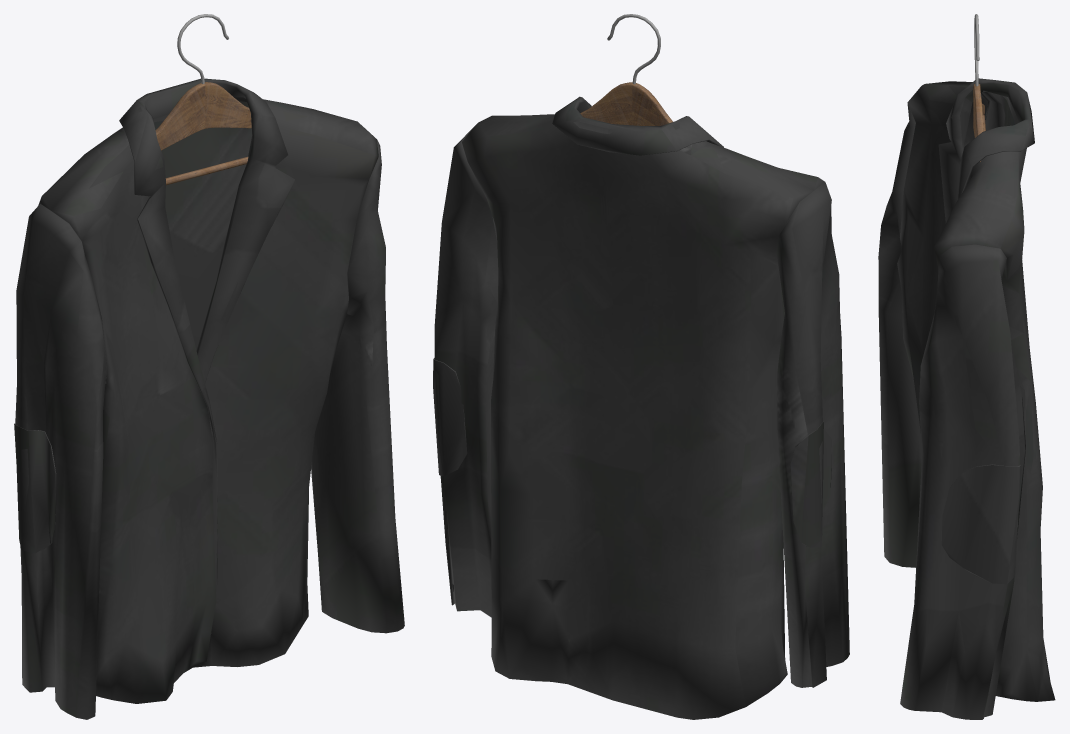
Rendered from jacket_017.glb.
3 views of the same model, side by side, from view 1: azimuth 30°, elevation 25°; view 2: azimuth 150°, elevation 25°; view 3: azimuth 270°, elevation 25° (orthographic). The views are drawn at different scales.
Parts seen in each view (by area): view 1: jacket_017_StaticMeshComponent0, BP_Hangers_for_clothes323_StaticMeshComponent0; view 2: jacket_017_StaticMeshComponent0, BP_Hangers_for_clothes323_StaticMeshComponent0; view 3: jacket_017_StaticMeshComponent0, BP_Hangers_for_clothes323_StaticMeshComponent0.
Part boxes in pixels (left/top/right/bottom): jacket_017_StaticMeshComponent0: left=14, top=78, right=404, bottom=719; BP_Hangers_for_clothes323_StaticMeshComponent0: left=155, top=14, right=251, bottom=185; jacket_017_StaticMeshComponent0: left=433, top=96, right=849, bottom=719; BP_Hangers_for_clothes323_StaticMeshComponent0: left=580, top=14, right=672, bottom=125; jacket_017_StaticMeshComponent0: left=878, top=78, right=1055, bottom=719; BP_Hangers_for_clothes323_StaticMeshComponent0: left=973, top=14, right=985, bottom=161.
Size of the model in its own units: 0.5234 by 0.9055 by 0.224.
4 materials, 3 textured.
